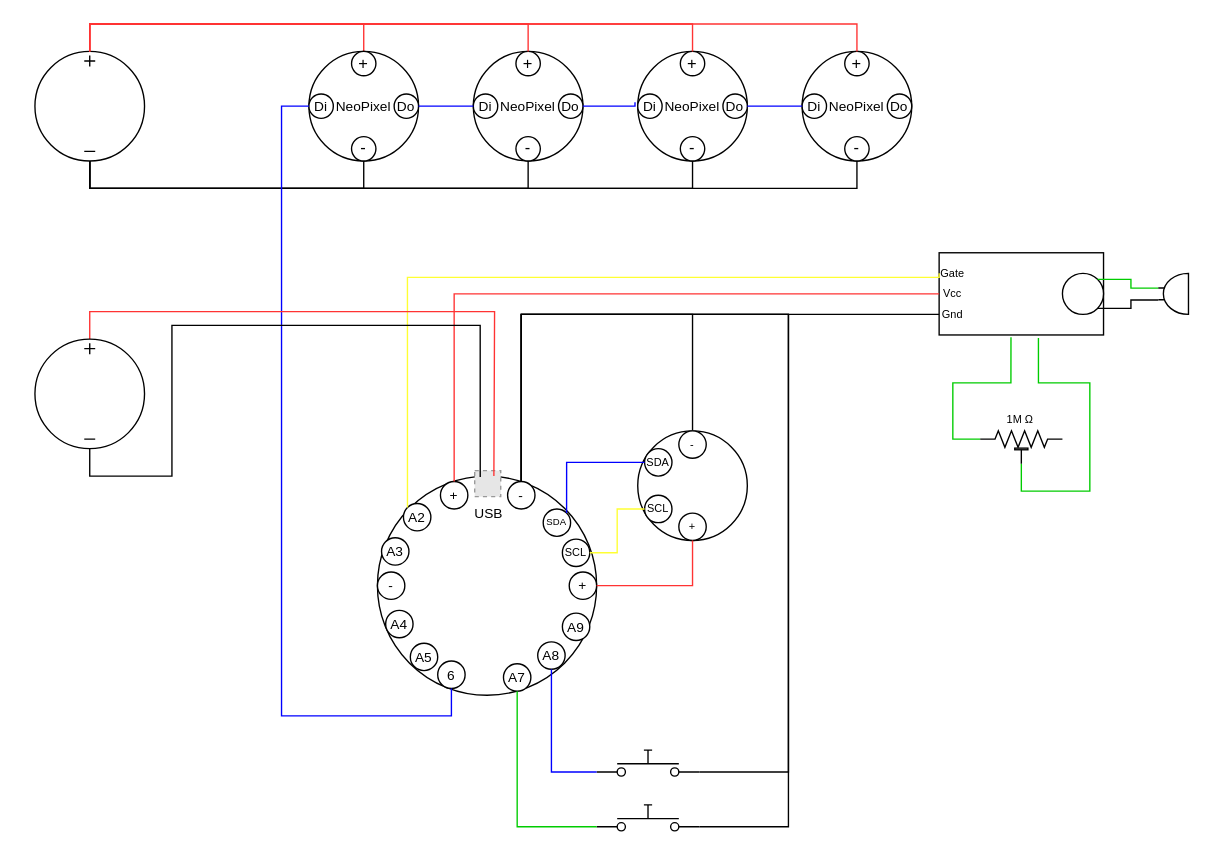
The diagram is 1212 pixels wide and 856 high, and some of its shapes have lost their labels. Grey dashed boxes stand in for pictures. Here are the shapes that lost their labels. From the top down, the box of each, then its label:
(34, 50, 145, 161): USB Battery Pack
(938, 251, 1104, 335): Sparkfun Sound Detector
(34, 338, 145, 449): USB Pattery Pack
(636, 429, 747, 540): Flora Color Sensor
(376, 475, 597, 695): Lilypad USB Plus
